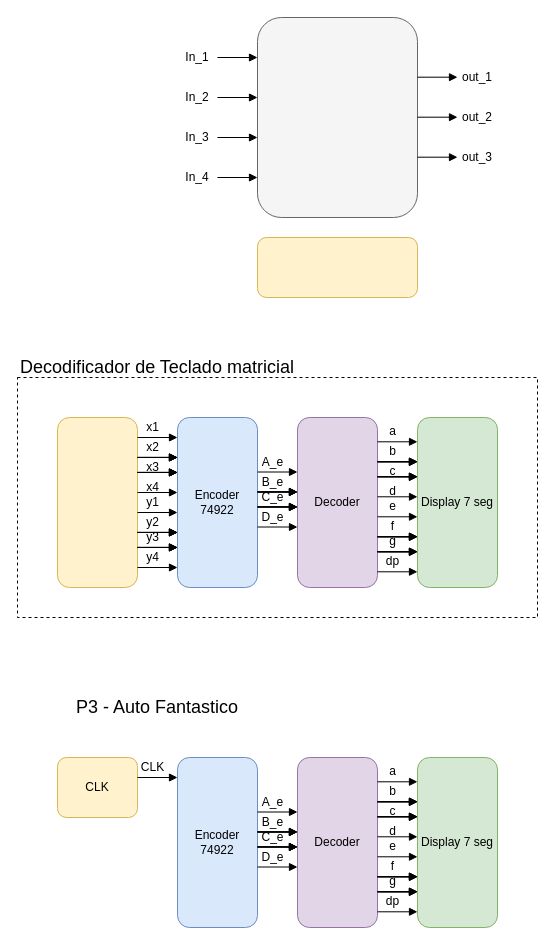
This 555x945 diagram has some shape labels left out. Here are the shapes that lost their labels. From the top down, the box of each, then its label:
(256, 16, 418, 218): Diseño Combinacional Mux, DEmux, DEC, ENC, TT
(256, 236, 418, 298): Las salidas únicamente dependen de sus entradas actuales
(56, 416, 138, 588): Teclado Matricial
